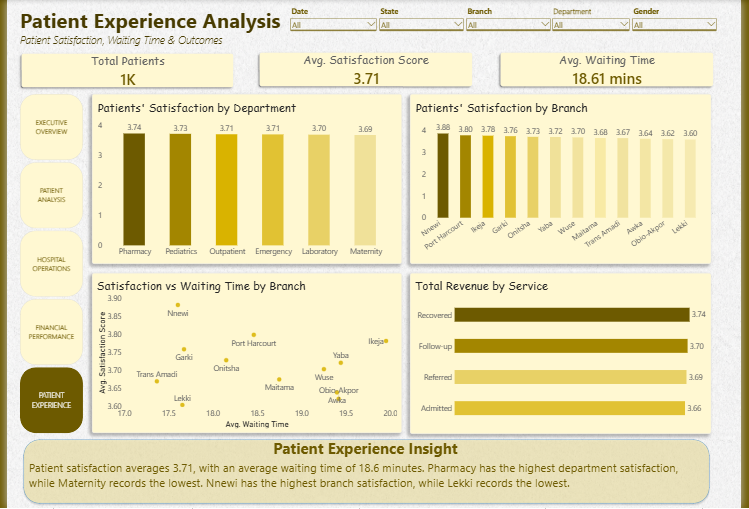

This screenshot's page, from the dashboard's own definition file:
{"tool":"powerbi","page":{"name":"PATIENT EXPERIENCE","canvas":[2600,1800],"ordinal":4},"visuals":[{"type":"textbox","box":[46.1,21.3,1102,155.9],"z":0},{"type":"clusteredBarChart","title":"Total Revenue by Service","fields":{"Category":["Patient_Visits.Outcome"],"Y":["Date_Table.Avg. Satisfaction Score"]},"box":[1428,967.3,1066.5,570.5],"z":1000},{"type":"scatterChart","title":"Satisfaction vs Waiting Time by Branch","fields":{"Category":["Patient_Visits.Branch"],"X":["Date_Table.Avg. Waiting Time"],"Y":["Date_Table.Avg. Satisfaction Score"]},"box":[301.2,967.3,1098.4,566.9],"z":2000},{"type":"clusteredColumnChart","title":"Patients'' Satisfaction by Department","fields":{"Category":["Patient_Visits.Department"],"Y":["Date_Table.Avg. Satisfaction Score"]},"box":[301.2,333.1,1098.4,602.4],"z":3000},{"type":"clusteredColumnChart","title":"Patients'' Satisfaction by Branch","fields":{"Category":["Patient_Visits.Branch"],"Y":["Date_Table.Avg. Satisfaction Score"]},"box":[1428,333.1,1066.5,602.4],"z":4000},{"type":"pageNavigator","box":[46.1,333.1,223.2,1204.7],"z":5000},{"type":"cardVisual","fields":{"Data":["Date_Table.Total Patients"]},"box":[35.4,173.6,783.1,152.4],"z":6000},{"type":"cardVisual","fields":{"Data":["Date_Table.Avg. Waiting Time"]},"box":[1732.7,170.1,786.6,152],"z":7000},{"type":"cardVisual","fields":{"Data":["Date_Table.Avg. Satisfaction Score"]},"box":[878.7,170.1,786.6,152],"z":8000},{"type":"slicer","fields":{"Values":["Date_Table.Date"]},"box":[999.2,21.3,315.4,113.4],"z":8001},{"type":"slicer","fields":{"Values":["State_Targets.State"]},"box":[1314.6,21.3,308.3,124],"z":8002},{"type":"slicer","fields":{"Values":["Patient_Visits.Branch"]},"box":[1622.8,21.3,308.3,109.8],"z":8003},{"type":"slicer","fields":{"Values":["Patient_Visits.Department"]},"box":[1927.6,21.3,283.5,113.4],"z":8004},{"type":"slicer","fields":{"Values":["Patient_Visits.Gender"]},"box":[2211,21.3,308.3,109.8],"z":8005},{"type":"shape","box":[49.6,1548.4,2448.4,244.5],"z":8006},{"type":"textbox","box":[78,1629.9,2391.7,141.7],"z":8007},{"type":"textbox","box":[31.9,1552,2476.8,95.7],"z":8008}]}

Visuals, with their boxes in screenshot pixels (x1, y1, x2, y2), scaled from the page's 2600x1800 canvas onto the 749x509 screenshot:
textbox: bbox=[13, 6, 331, 50]
"Total Revenue by Service" clusteredBarChart: bbox=[411, 274, 719, 435]
"Satisfaction vs Waiting Time by Branch" scatterChart: bbox=[87, 274, 403, 434]
"Patients'' Satisfaction by Department" clusteredColumnChart: bbox=[87, 94, 403, 265]
"Patients'' Satisfaction by Branch" clusteredColumnChart: bbox=[411, 94, 719, 265]
pageNavigator: bbox=[13, 94, 78, 435]
cardVisual - Date_Table.Total Patients: bbox=[10, 49, 236, 92]
cardVisual - Date_Table.Avg. Waiting Time: bbox=[499, 48, 726, 91]
cardVisual - Date_Table.Avg. Satisfaction Score: bbox=[253, 48, 480, 91]
slicer - Date_Table.Date: bbox=[288, 6, 379, 38]
slicer - State_Targets.State: bbox=[379, 6, 468, 41]
slicer - Patient_Visits.Branch: bbox=[467, 6, 556, 37]
slicer - Patient_Visits.Department: bbox=[555, 6, 637, 38]
slicer - Patient_Visits.Gender: bbox=[637, 6, 726, 37]
shape: bbox=[14, 438, 720, 507]
textbox: bbox=[22, 461, 711, 501]
textbox: bbox=[9, 439, 723, 466]
